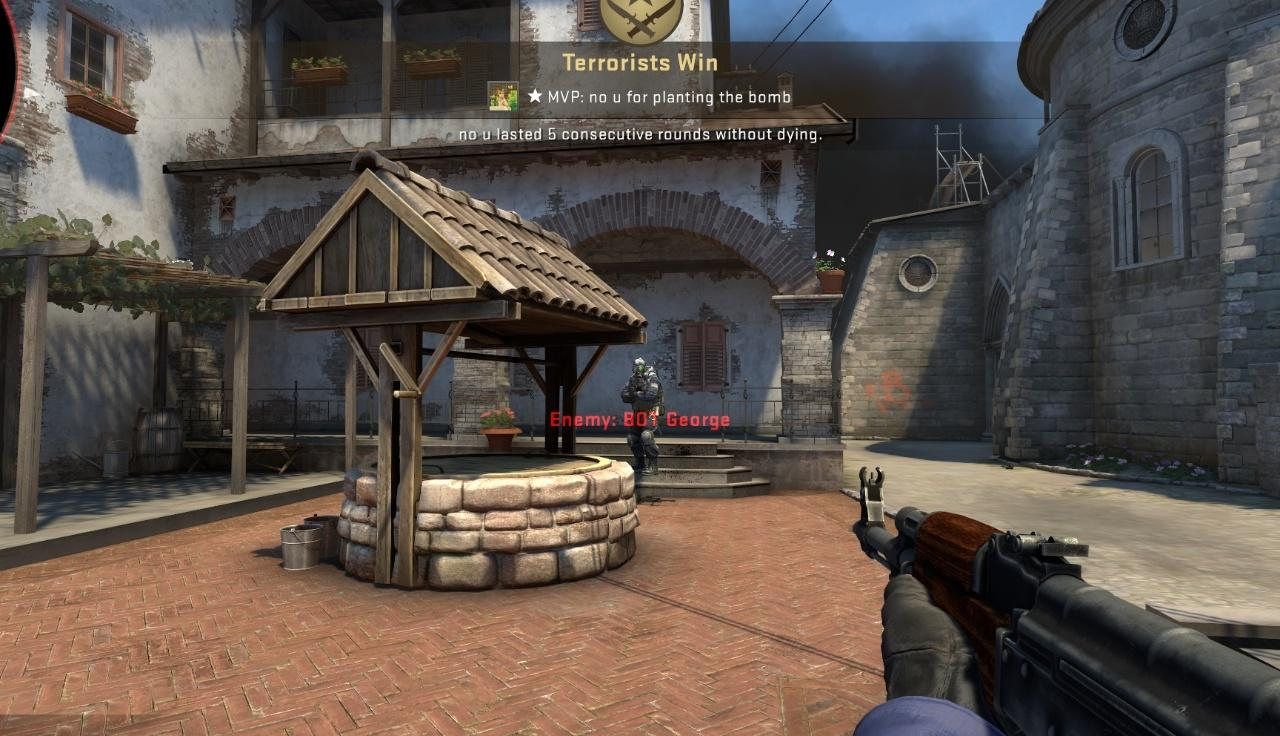ct: (625, 357, 661, 474)
cthead: (631, 358, 647, 379)
rifle: (845, 461, 1280, 736)
